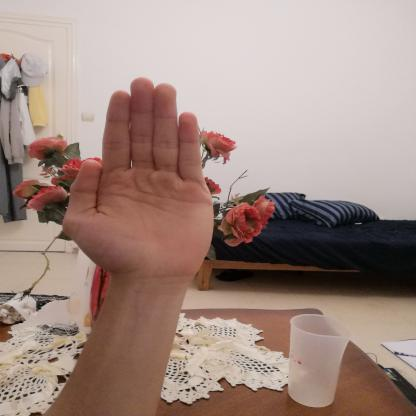SEEN: (49, 69, 228, 287)
